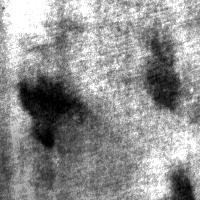patches: (0, 95, 137, 200), (0, 37, 83, 127), (15, 75, 81, 147), (143, 35, 179, 108), (163, 163, 194, 200)
